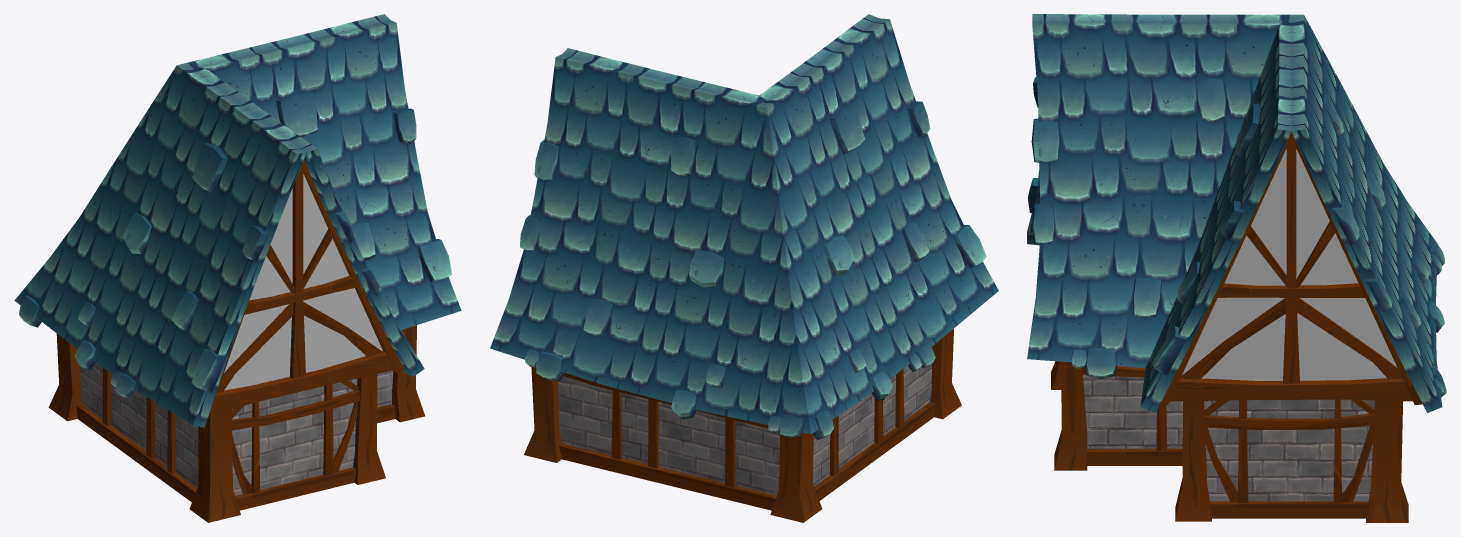
The model's file is SM_BLD_body_v06_01.fbx.
3 views of the same model, side by side, from view 1: azimuth 30°, elevation 25°; view 2: azimuth 150°, elevation 25°; view 3: azimuth 270°, elevation 25° (orthographic). The views are drawn at different scales.
Visible parts, largest first — view 1: SM_BLD_body_v06_01; view 2: SM_BLD_body_v06_01; view 3: SM_BLD_body_v06_01.
Part boxes in pixels (<box>): SM_BLD_body_v06_01: <box>14,14,461,522</box>; SM_BLD_body_v06_01: <box>490,14,998,522</box>; SM_BLD_body_v06_01: <box>1027,14,1446,522</box>.
Size of the model in its own units: 1024 by 1078 by 1021.
